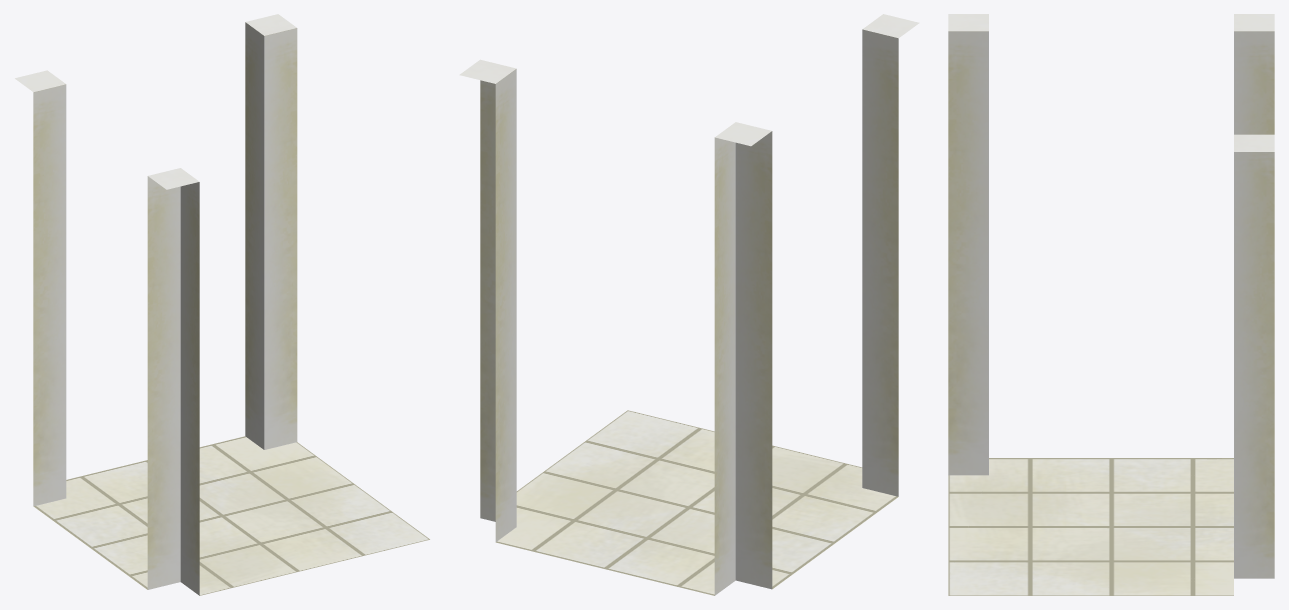
File: maze_4way3columns.FBX
The picture shows the model from 3 angles, left to right: view 1: azimuth 30°, elevation 25°; view 2: azimuth 150°, elevation 25°; view 3: azimuth 270°, elevation 25°; orthographic projection. The views are drawn at different scales.
Visible parts, largest first — view 1: Plane01; view 2: Plane01; view 3: Plane01.
Part boxes in pixels (x1,y1,x2,y2): Plane01: (15, 14, 429, 595); Plane01: (459, 14, 919, 595); Plane01: (948, 14, 1274, 595).
Bounding box in the file's own units: 32 × 48 × 32.
